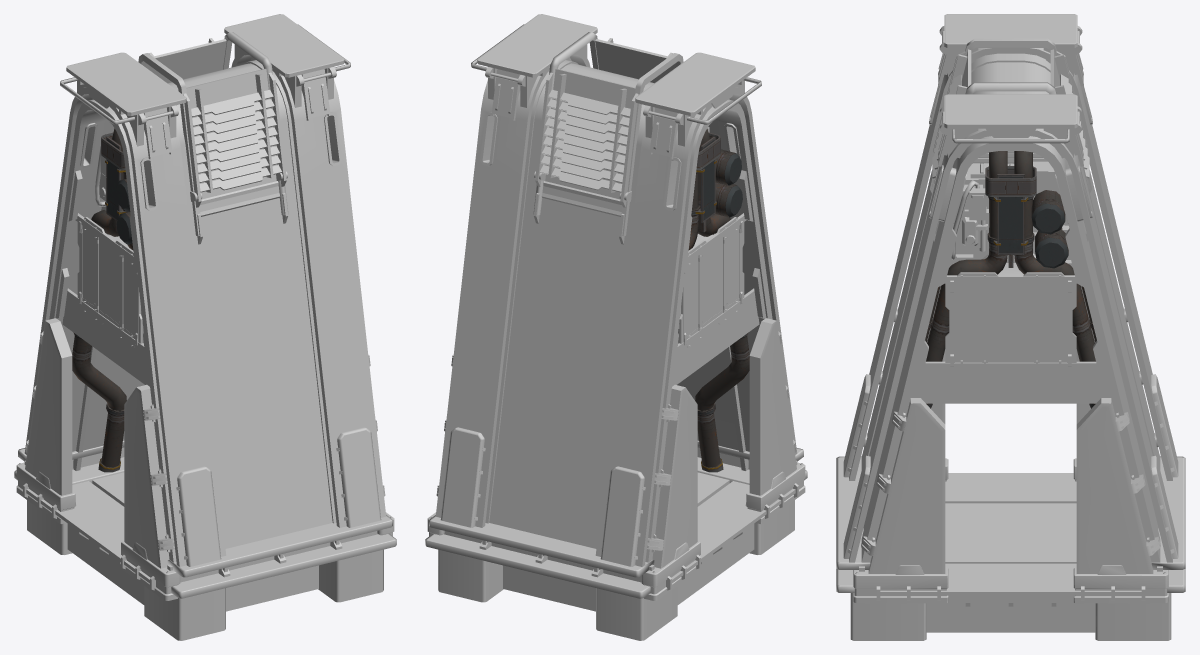
The model's file is Radiator_Big_L1.fbx.
The picture shows the model from 3 angles, left to right: view 1: azimuth 30°, elevation 25°; view 2: azimuth 150°, elevation 25°; view 3: azimuth 270°, elevation 25°; orthographic projection. The views are drawn at different scales.
Visible parts, largest first — view 1: Element3, Element4, Element5, Element2, Element1; view 2: Element3, Element4, Element5, Element2, Element1; view 3: Element4, Element3, Element5, Element2, Element1.
Part boxes in pixels (left/top/right/bottom): Element3: left=14, top=50, right=396, bottom=598; Element4: left=16, top=14, right=394, bottom=640; Element5: left=18, top=32, right=392, bottom=573; Element2: left=72, top=128, right=133, bottom=472; Element1: left=82, top=228, right=135, bottom=335; Element3: left=425, top=50, right=807, bottom=598; Element4: left=427, top=14, right=805, bottom=640; Element5: left=429, top=32, right=803, bottom=573; Element2: left=688, top=128, right=749, bottom=472; Element1: left=686, top=228, right=739, bottom=335; Element4: left=843, top=14, right=1178, bottom=640; Element3: left=836, top=48, right=1185, bottom=595; Element5: left=855, top=38, right=1166, bottom=573; Element2: left=925, top=151, right=1096, bottom=408; Element1: left=955, top=286, right=1066, bottom=359.
Bounding box in the file's own units: 603 × 1220 × 733.
